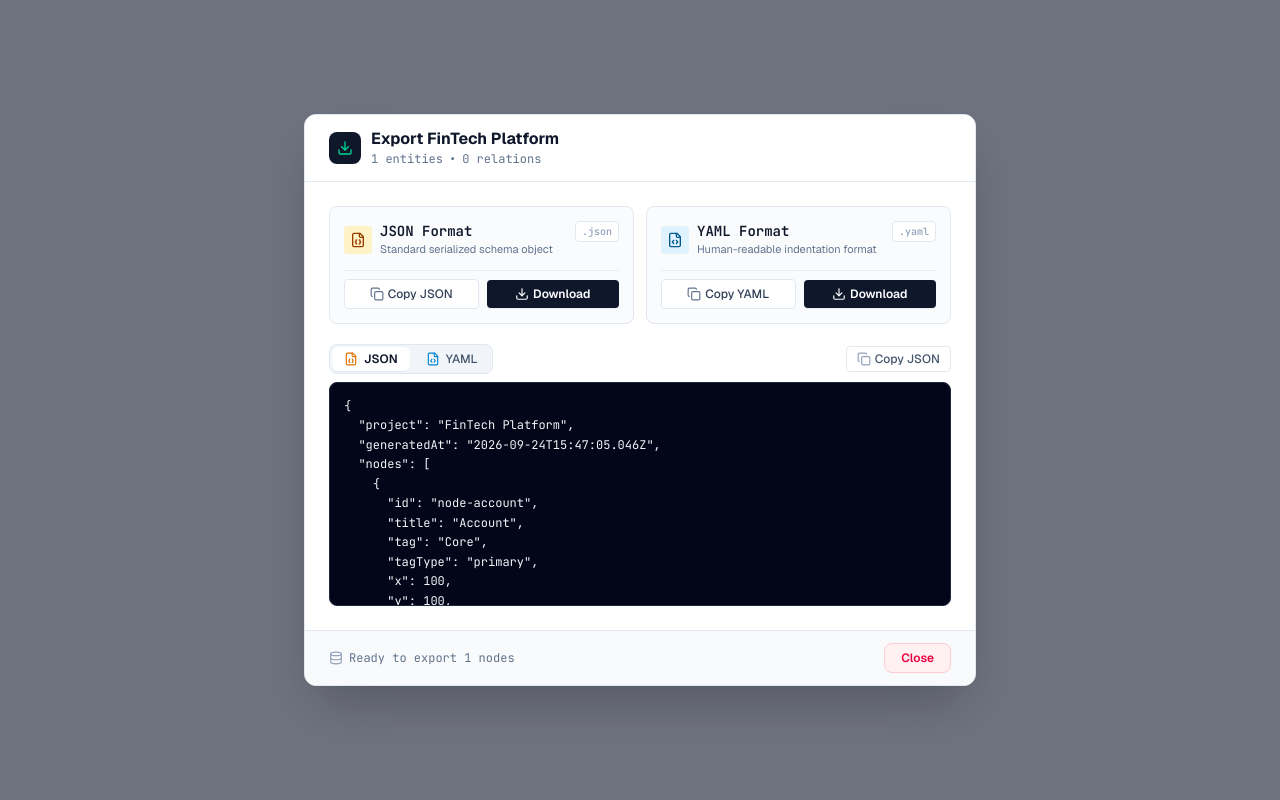
Test: ExportModal Component › allows switching between JSON and YAML preview tabs
expect the button "JSON" is shown: met, box top-left (332, 347), bottom-right (410, 371)
What coordinates should you click on to do the following:
click the button "YAML"
I would click on:
 (452, 359)
Its box is top-left (414, 347), bottom-right (490, 371).
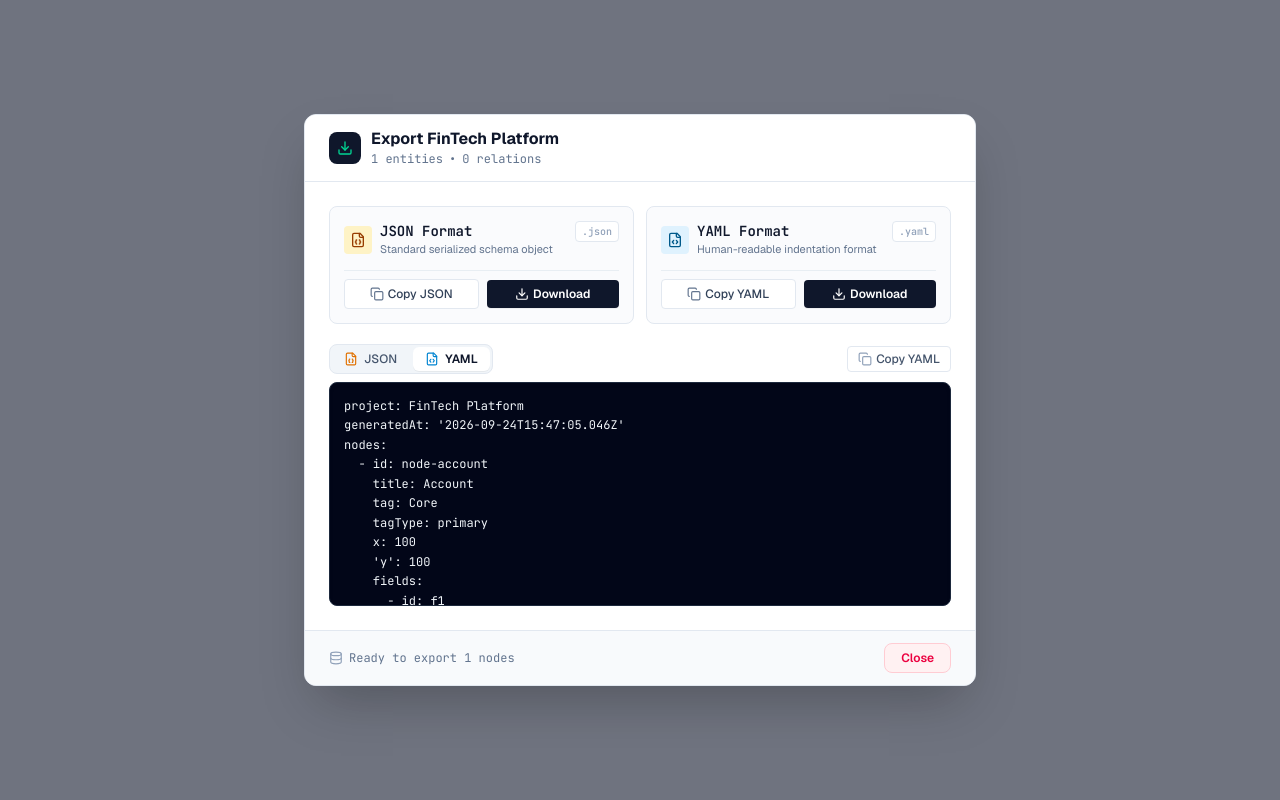
expect the text "project: FinTech Platform" is shown: met, box top-left (344, 398), bottom-right (625, 606)
